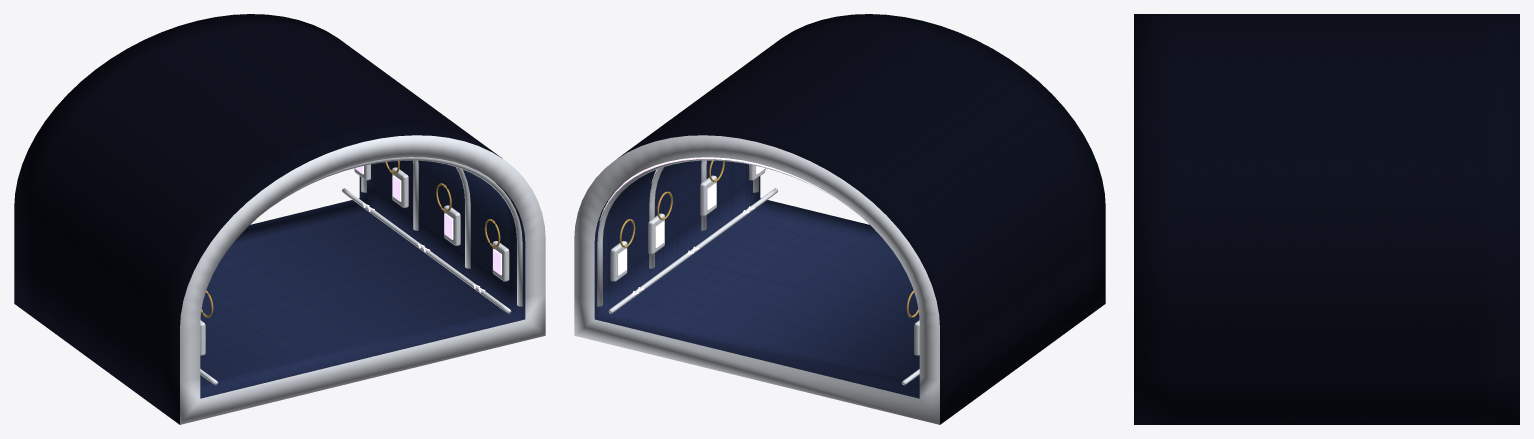
The model's file is straight_12m.glb.
The picture shows the model from 3 angles, left to right: view 1: azimuth 30°, elevation 25°; view 2: azimuth 150°, elevation 25°; view 3: azimuth 270°, elevation 25°; orthographic projection. The views are drawn at different scales.
Visible parts, largest first — view 1: TunnelGeometry; view 2: TunnelGeometry; view 3: TunnelGeometry.
Part boxes in pixels (<box>): TunnelGeometry: <box>14,14,545,424</box>; TunnelGeometry: <box>574,14,1105,424</box>; TunnelGeometry: <box>1134,14,1519,424</box>.
Size of the model in its own units: 15.3 by 9.52 by 12.
5 materials, 2 textured.
